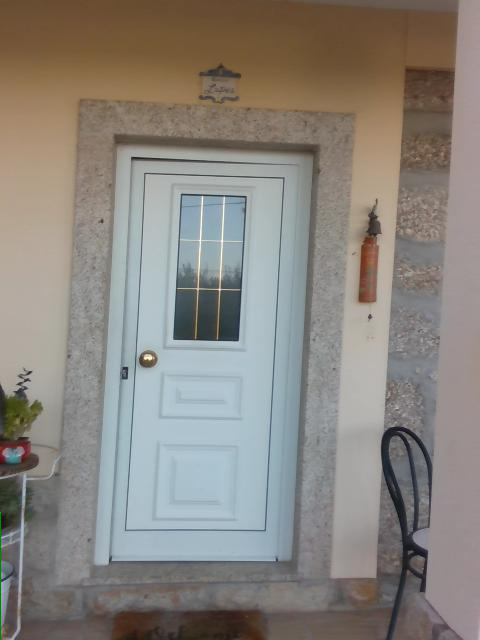door: (91, 135, 316, 567)
